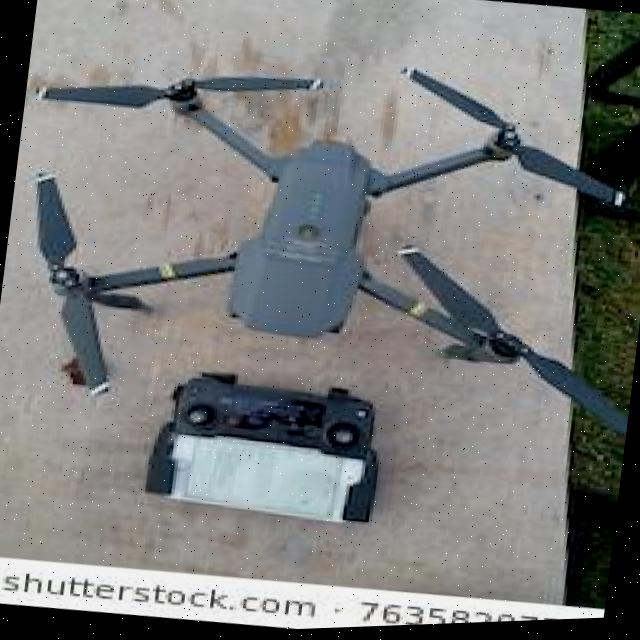drone: (0, 0, 640, 470)
